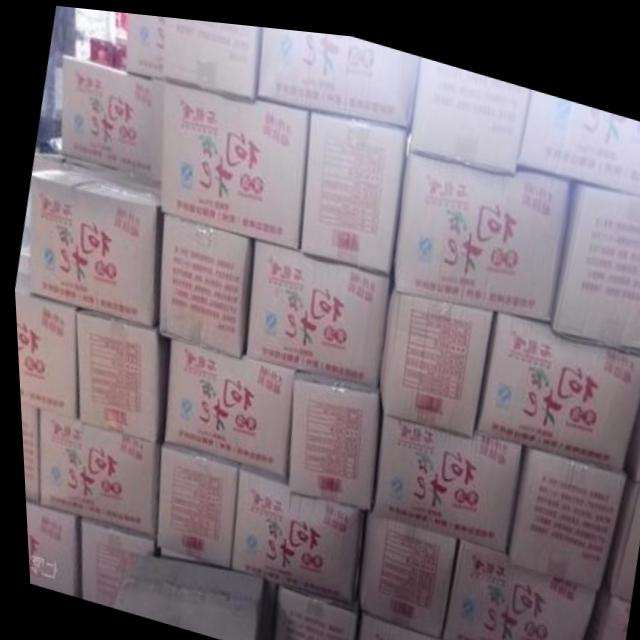box: (391, 144, 572, 309), (472, 301, 640, 460), (159, 77, 308, 244), (242, 236, 389, 383), (26, 168, 160, 326), (369, 408, 517, 542), (226, 459, 359, 599), (159, 336, 291, 475), (298, 103, 405, 268), (502, 436, 624, 578), (436, 530, 590, 640), (375, 281, 491, 427), (256, 21, 418, 119), (33, 408, 154, 538), (548, 171, 640, 336), (155, 211, 252, 357), (105, 548, 258, 640), (409, 48, 531, 161), (516, 78, 640, 183), (284, 365, 378, 503), (59, 52, 161, 179), (351, 506, 453, 630), (73, 309, 164, 441), (151, 440, 234, 565), (12, 272, 74, 417), (160, 13, 261, 95), (73, 517, 151, 606), (20, 502, 74, 597), (268, 580, 353, 640), (351, 608, 463, 640), (124, 10, 163, 74), (16, 403, 33, 506)
